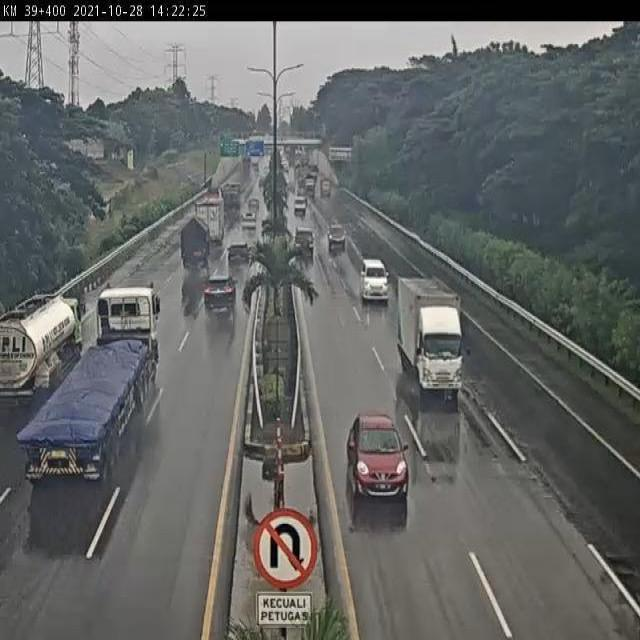car: (345, 411, 411, 509), (198, 279, 235, 327), (358, 256, 390, 305), (293, 224, 315, 259), (224, 244, 250, 273), (326, 220, 348, 252), (239, 209, 258, 236)
truck: (18, 285, 160, 483), (0, 292, 83, 407), (396, 275, 464, 400), (178, 217, 213, 275), (193, 199, 225, 248)
